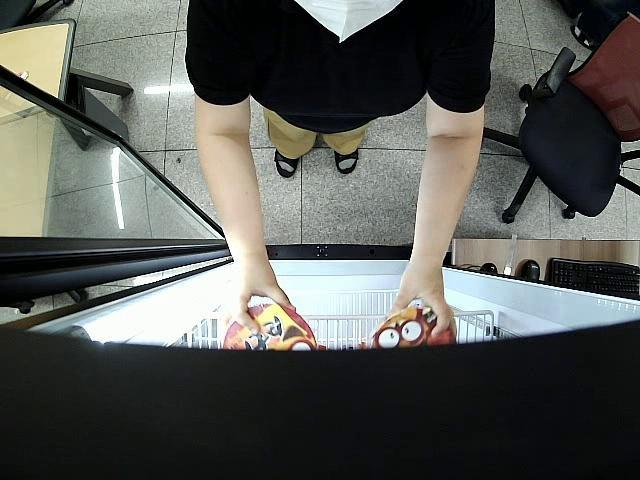05_nuguri_L: (228, 306, 319, 352), (371, 306, 456, 348)
